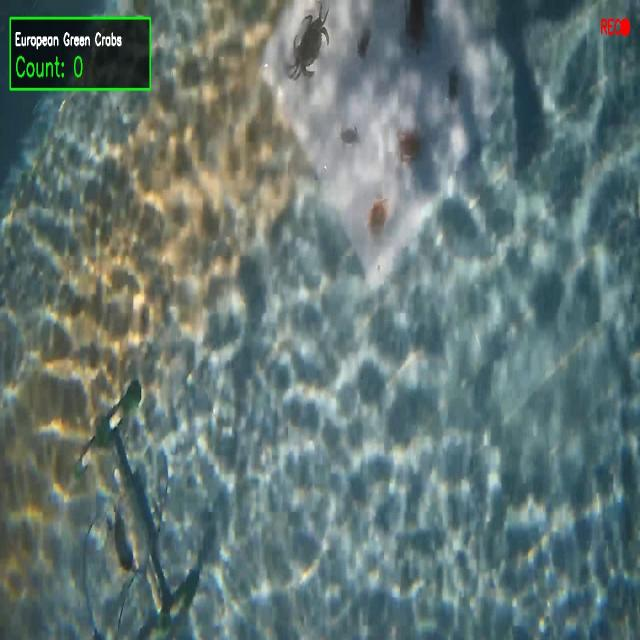European_Green_Crab: (276, 0, 347, 103), (339, 120, 360, 153), (445, 62, 460, 107)
